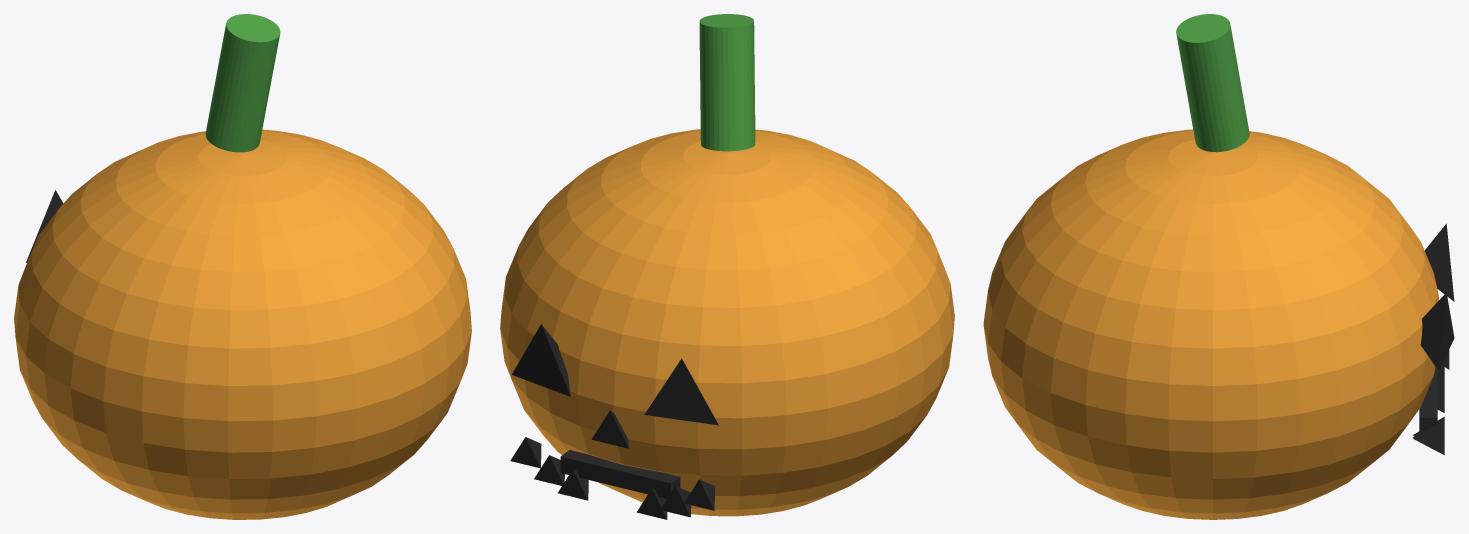
File: pumpkin.glb
3 views of the same model, side by side, from view 1: azimuth 30°, elevation 25°; view 2: azimuth 150°, elevation 25°; view 3: azimuth 270°, elevation 25° (orthographic).
Visible parts, largest first — view 1: Pumpkin; view 2: Pumpkin; view 3: Pumpkin.
Boxes of the visible parts, x1=… form: Pumpkin: x1=14, y1=14, x2=471, y2=519; Pumpkin: x1=500, y1=14, x2=954, y2=519; Pumpkin: x1=983, y1=14, x2=1454, y2=519.
Size of the model in its own units: 0.0081 by 0.00922 by 0.00831.
